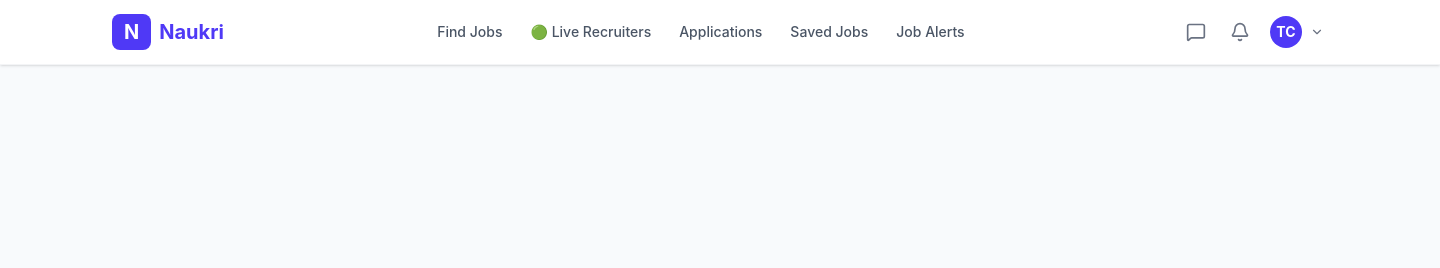
Scenario: Navbar — notification dropdown › shows no notifications message when empty
The image size is (1440, 268).
Click the 1st button at point(1240, 32), box [1222,14,1258,50]
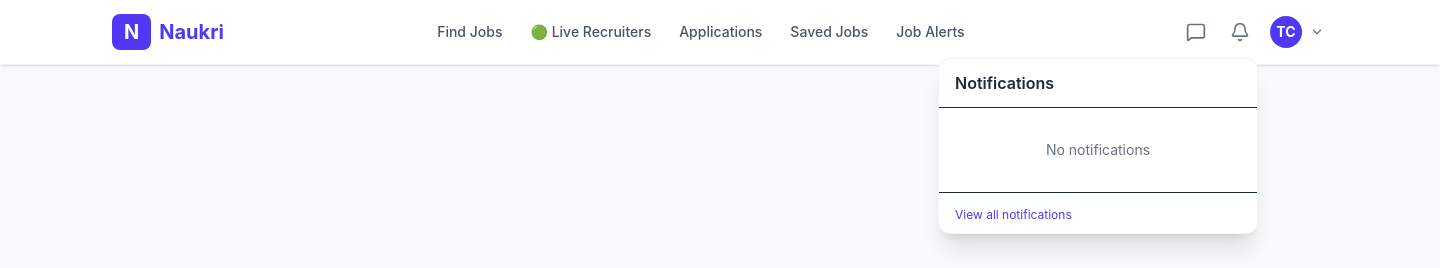
Expected: the text "No notifications" is shown, [1046,141,1150,158]
